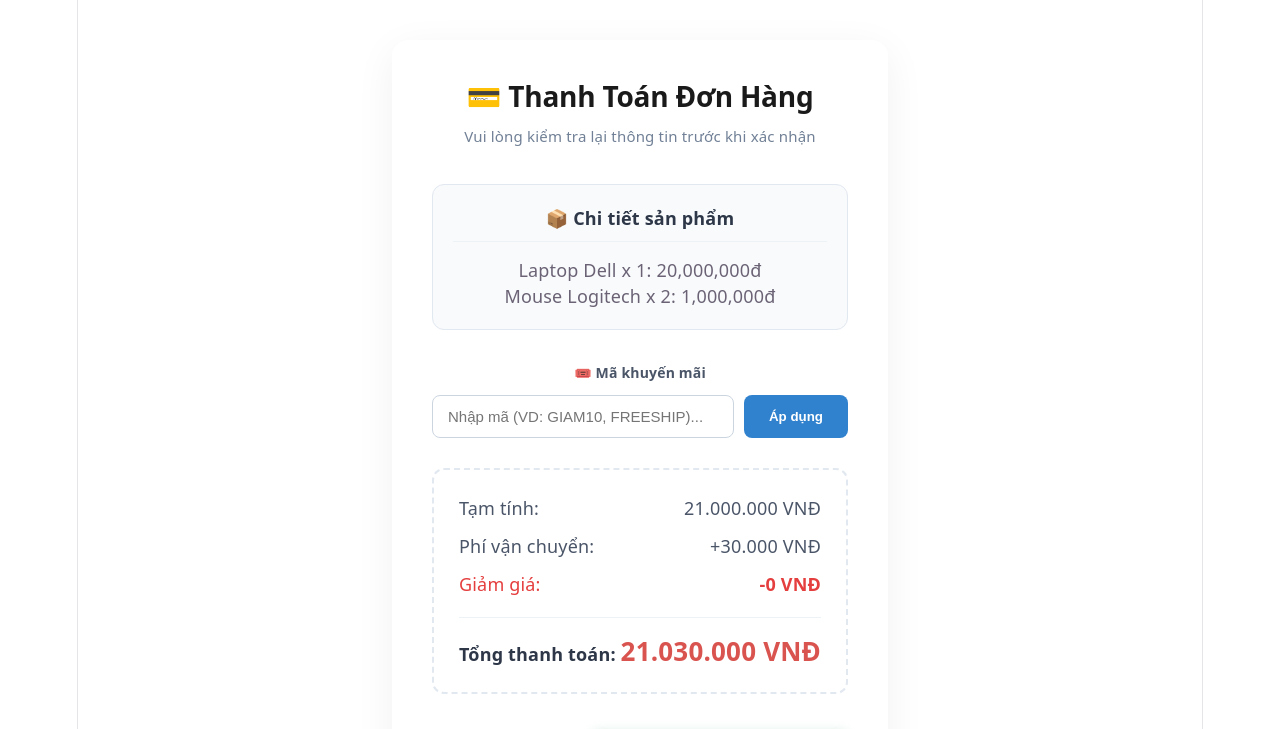
Test: Checkout Integration Tests › TC11: Hiển thị thông báo khi nhập mã giảm giá linh tinh
The image size is (1280, 729).
In the field with placeholder "Nhập mã (VD: GIAM10, FREESHIP)...": x=583, y=416 [432, 394, 734, 438], type "LUA_DAO_100K"
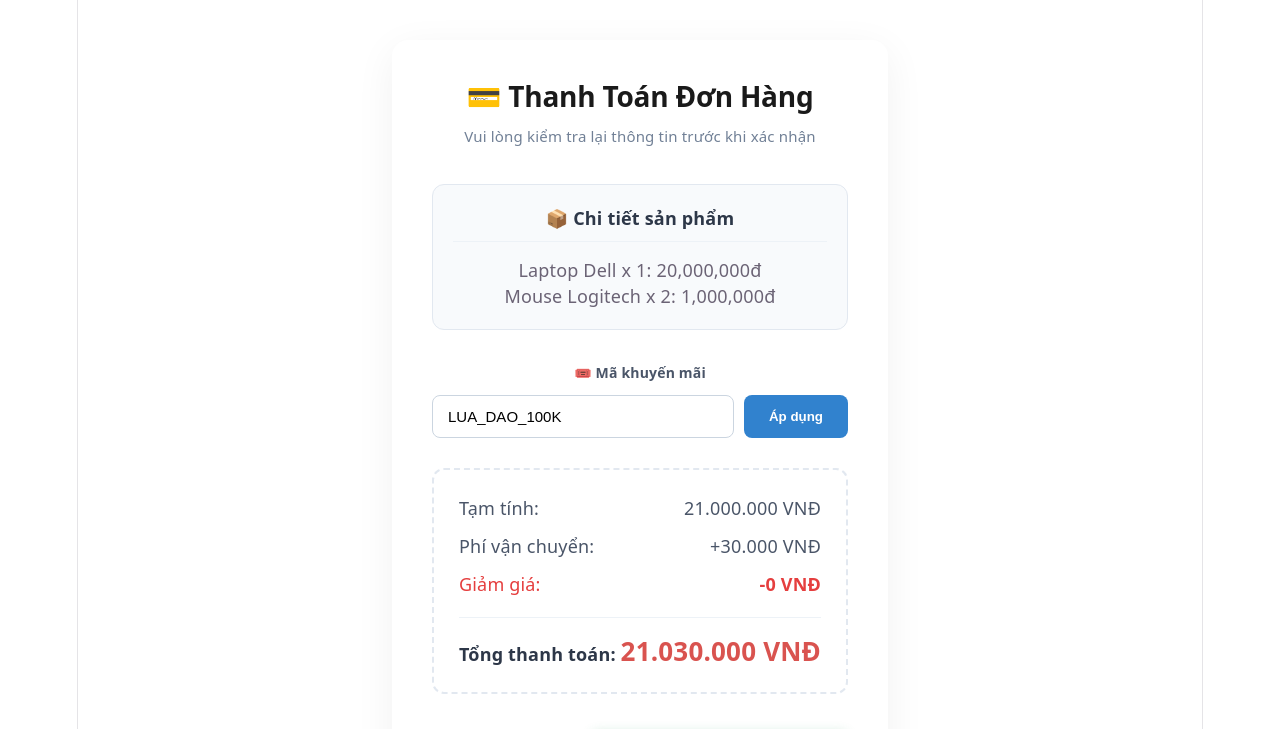
Click the button "Áp dụng": x=796, y=416 [744, 394, 848, 438]
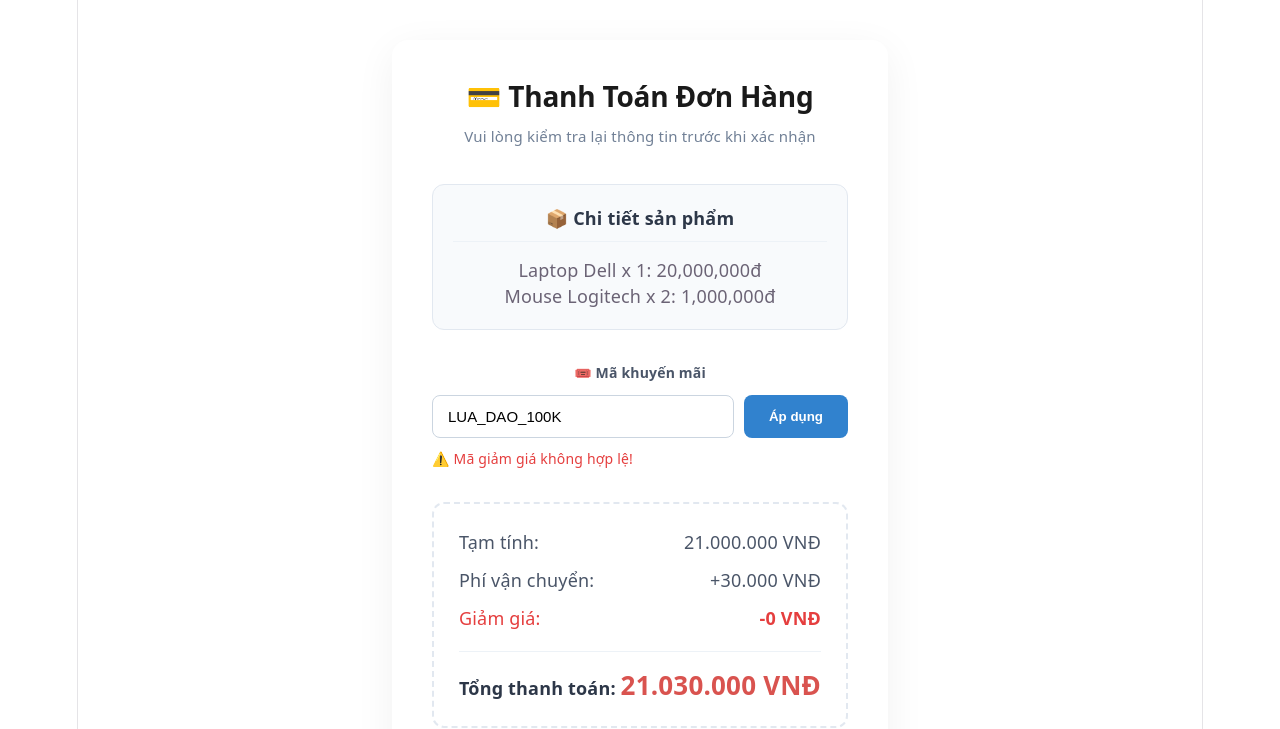
Now the text "⚠️ Mã giảm giá không hợp lệ!" is shown, box [432, 448, 633, 468]
